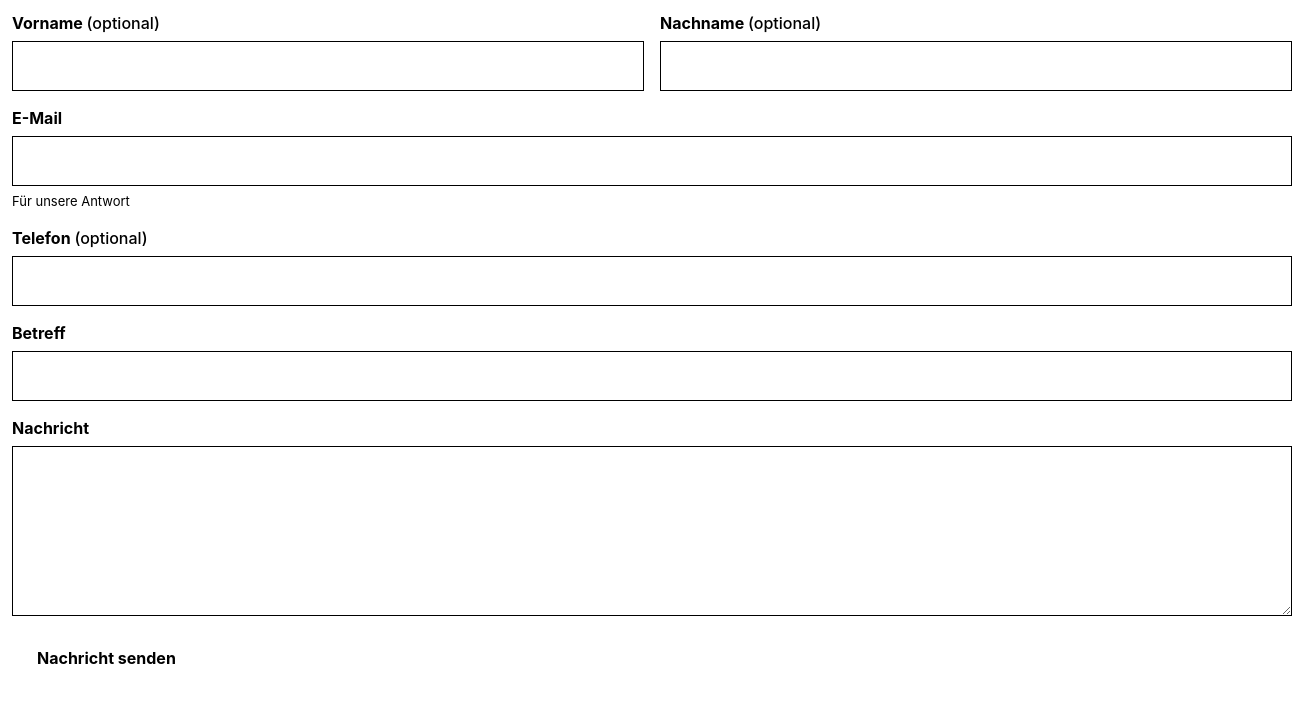
Scenario: contact form with a preset (#445) › reports a failed send in the form
Type "gast@example.de" into the field named "email" at (652, 161), box [12,136,1292,186]
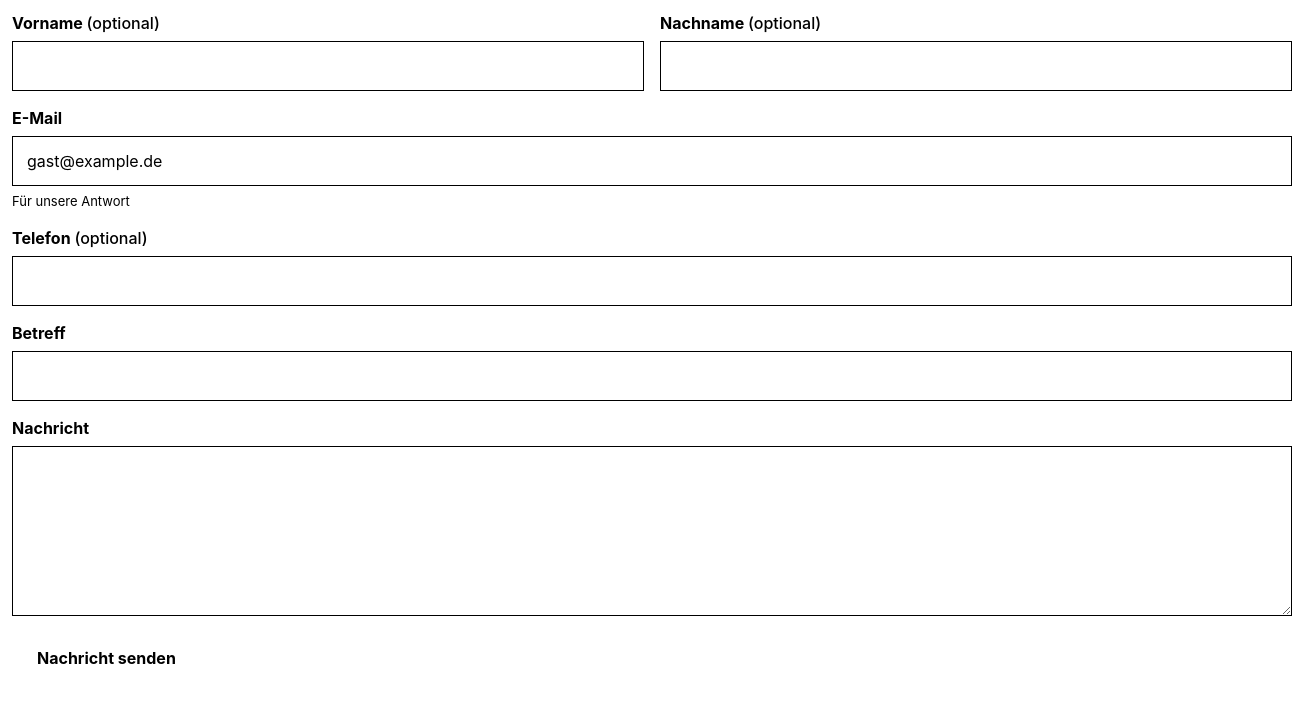
Type "Allergene" into the field named "subject" at (652, 376), box [12,351,1292,401]
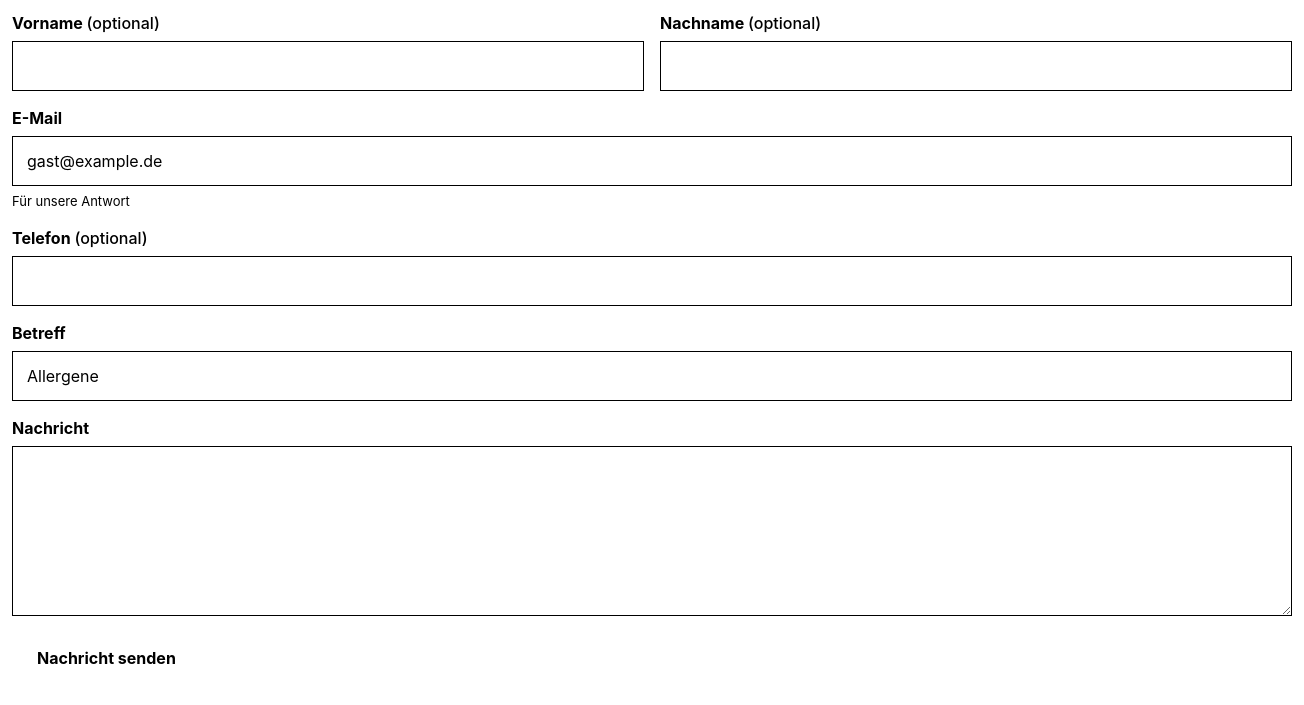
Type "Ist der Teig ohne Ei gemacht?" into the text box named "comment" at (652, 531), box [12,446,1292,616]
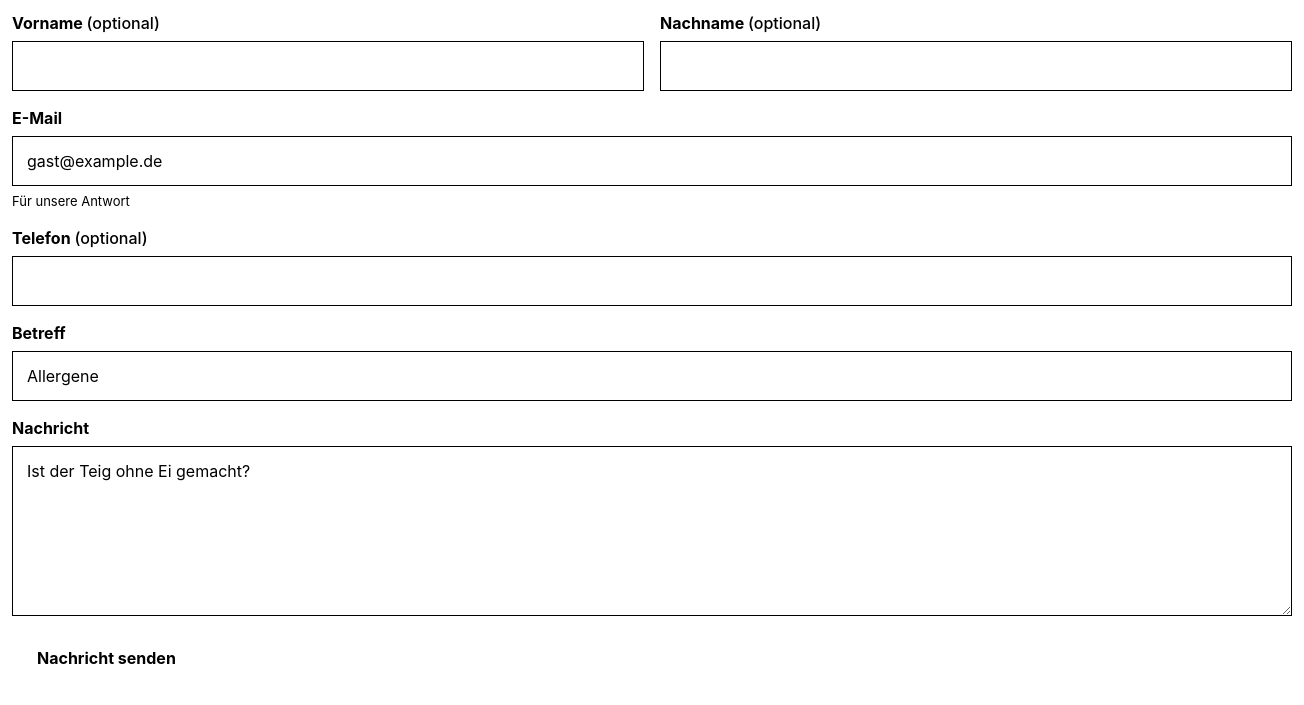
Submit the form
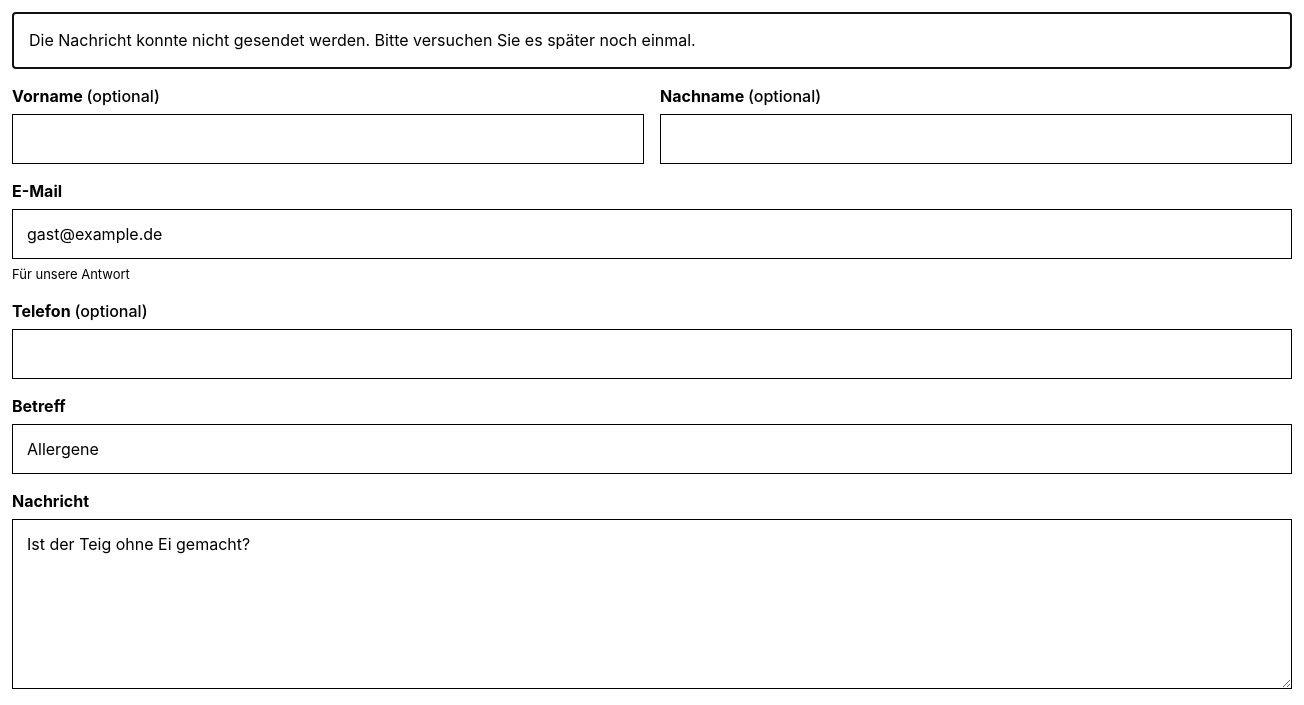
Now the message shows "konnte nicht gesendet werden", box [29,30,696,50]
